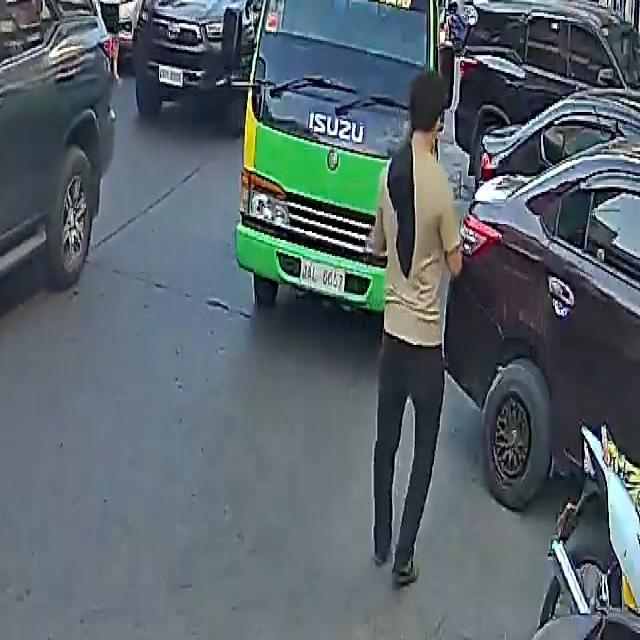car: (442, 70, 640, 526), (0, 0, 129, 421), (452, 0, 640, 156), (131, 0, 283, 112), (100, 0, 193, 28)
